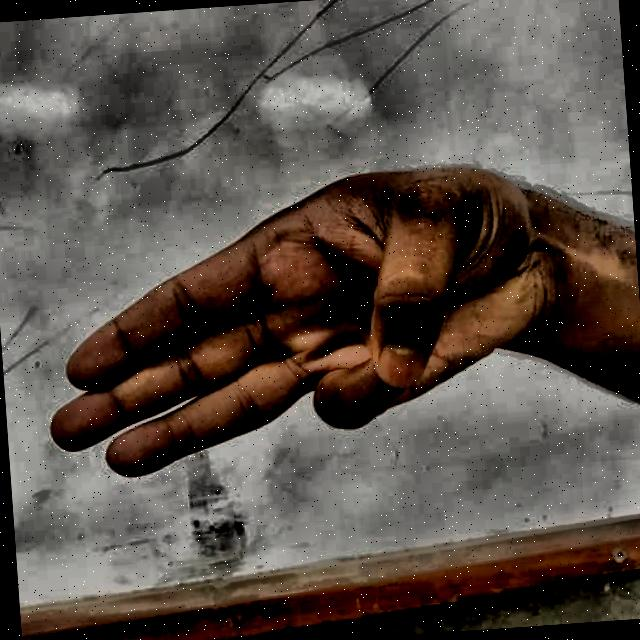Ma: (24, 142, 611, 516)
